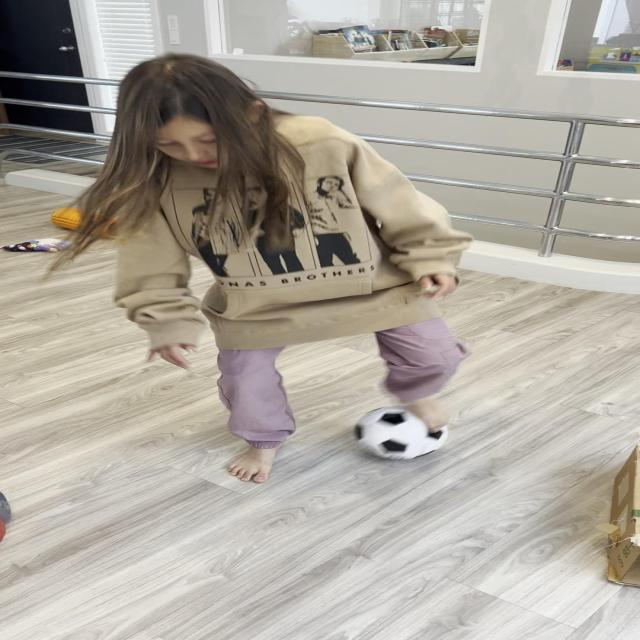Soccer Ball: (353, 406, 448, 460)
